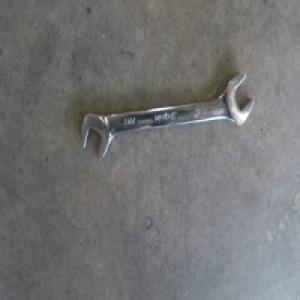Wrench: (83, 73, 251, 160)
